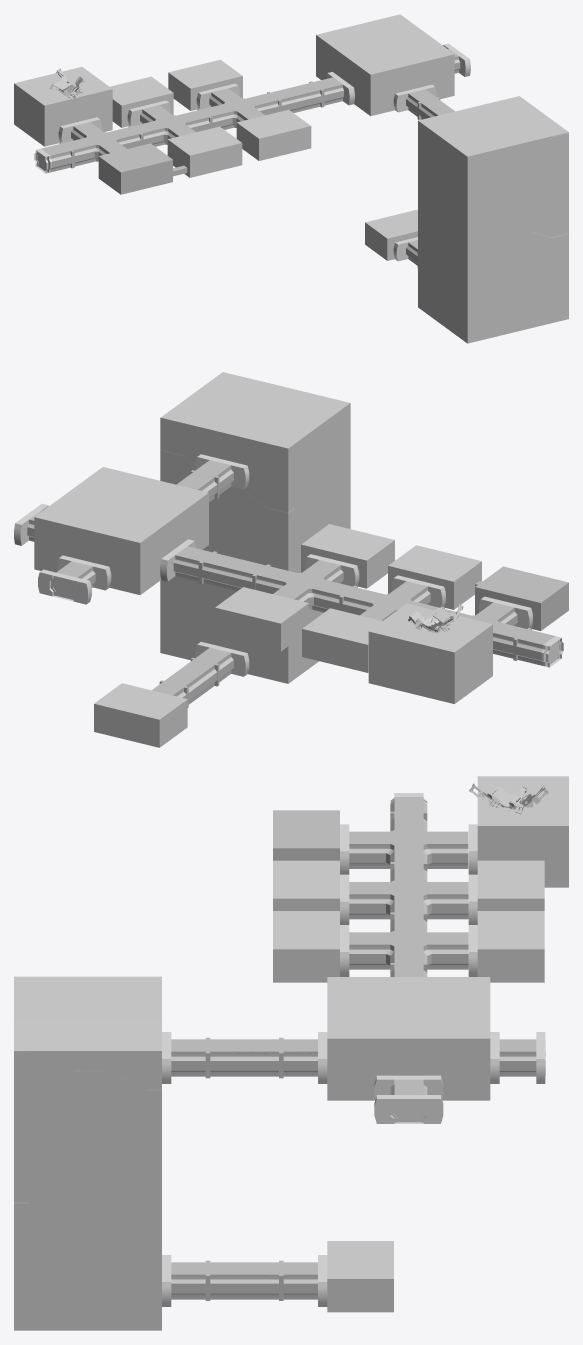
The model's file is Corrider.fbx.
3 renders of one model, top to bottom at view 1: azimuth 30°, elevation 25°; view 2: azimuth 150°, elevation 25°; view 3: azimuth 270°, elevation 25°, orthographic. The views are drawn at different scales.
Visible parts, largest first — view 1: Cube.027, Cube.011, Cube.020, Cube, Cube.012, Cube.001, Cube.013, Cube.019, Cube.034, Plane.034, Plane.010, Plane.033 (+10 smaller); view 2: Cube.027, Cube.011, Cube.020, Cube.034, Cube.013, Cube.019, Cube, Cube.012, Cube.001, Plane.010, Plane.034, Plane.001 (+23 smaller); view 3: Cube.027, Cube.011, Cube.020, Cube.034, Cube.013, Cube.012, Cube.019, Cube, Cube.001, Plane.051, Plane.063, Plane.069 (+17 smaller).
Part boxes in pixels (x1,y1,x2,y2): Cube.027: (418,96,568,343); Cube.011: (316,14,454,116); Cube.020: (14,67,112,146); Cube: (98,143,187,194); Cube.012: (236,109,311,160); Cube.001: (167,126,242,177); Cube.013: (168,59,242,110); Cube.019: (110,76,173,127); Cube.034: (365,209,417,260); Plane.034: (41,144,73,172); Plane.010: (291,83,321,111); Plane.033: (63,138,94,166); Cube.027: (160,372,350,683); Cube.011: (34,467,208,594); Cube.020: (368,603,492,703); Cube.034: (94,683,187,747); Cube.013: (215,587,308,651); Cube.019: (302,608,382,672); Cube: (475,566,568,630); Cube.012: (301,524,394,588); Cube.001: (388,545,481,609); Plane.010: (202,553,240,589); Plane.034: (514,630,554,665); Plane.001: (173,546,212,581); Cube.027: (14,976,161,1330); Cube.011: (327,977,490,1100); Cube.020: (477,776,568,887); Cube.034: (327,1241,393,1312); Cube.013: (477,911,544,982); Cube.012: (273,911,339,982); Cube.019: (477,860,544,910); Cube: (273,810,339,860); Cube.001: (273,860,339,910); Plane.051: (431,932,468,969); Plane.063: (499,1039,536,1076); Plane.069: (431,882,468,919).
Bounding box in the file's own units: 7885 × 3638 × 6048.
